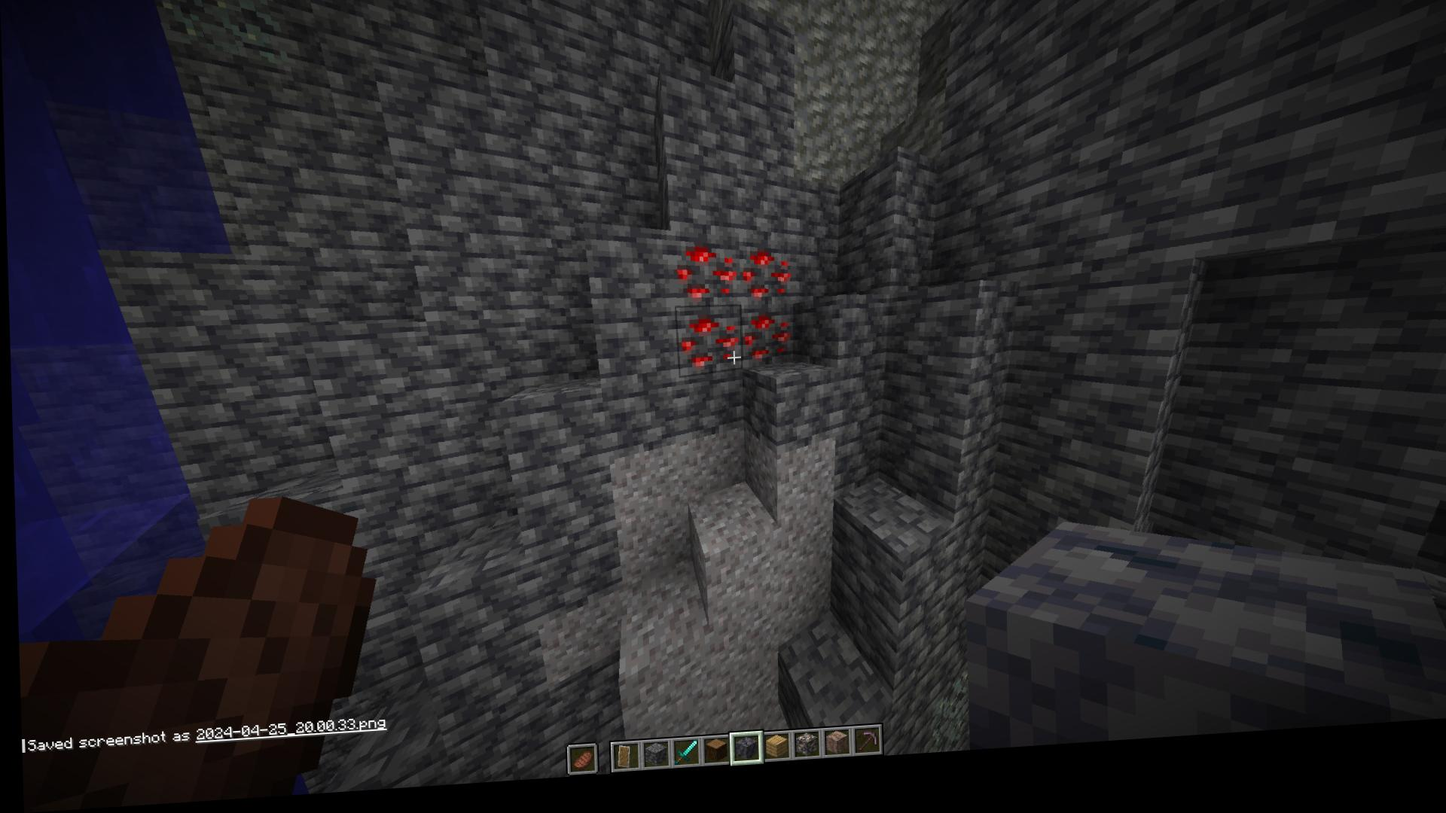redstone ore: (673, 247, 742, 316), (674, 319, 738, 383), (737, 248, 795, 314), (737, 312, 794, 378)
